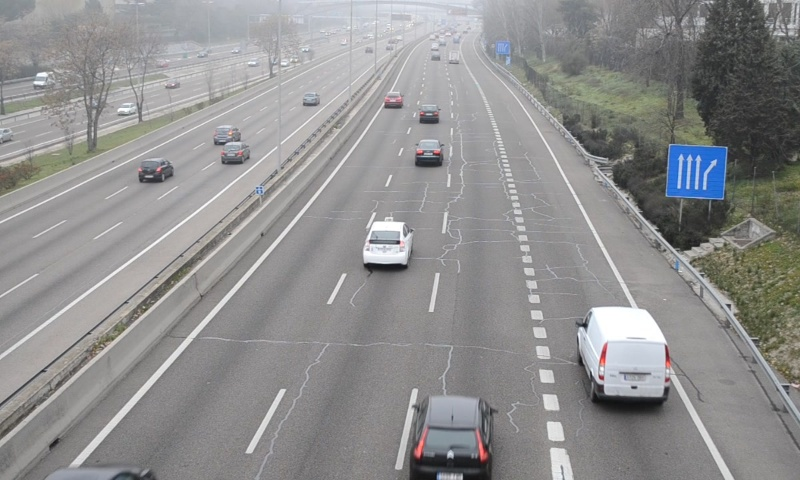car: (404, 397, 495, 480), (363, 220, 412, 265), (414, 139, 444, 165), (418, 102, 440, 124), (383, 90, 403, 108)
van: (577, 307, 670, 403)
